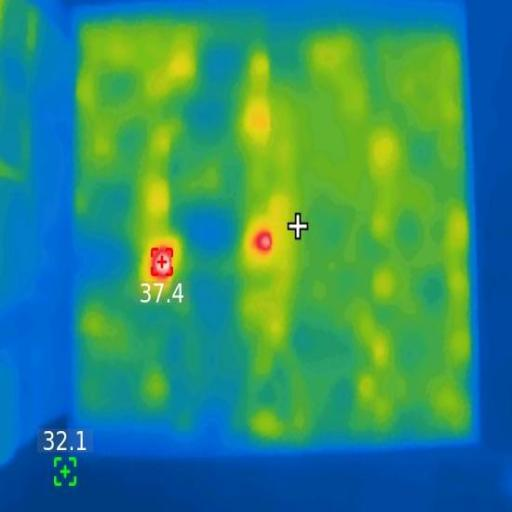hotspot: (149, 244, 178, 279), (250, 225, 274, 256)
